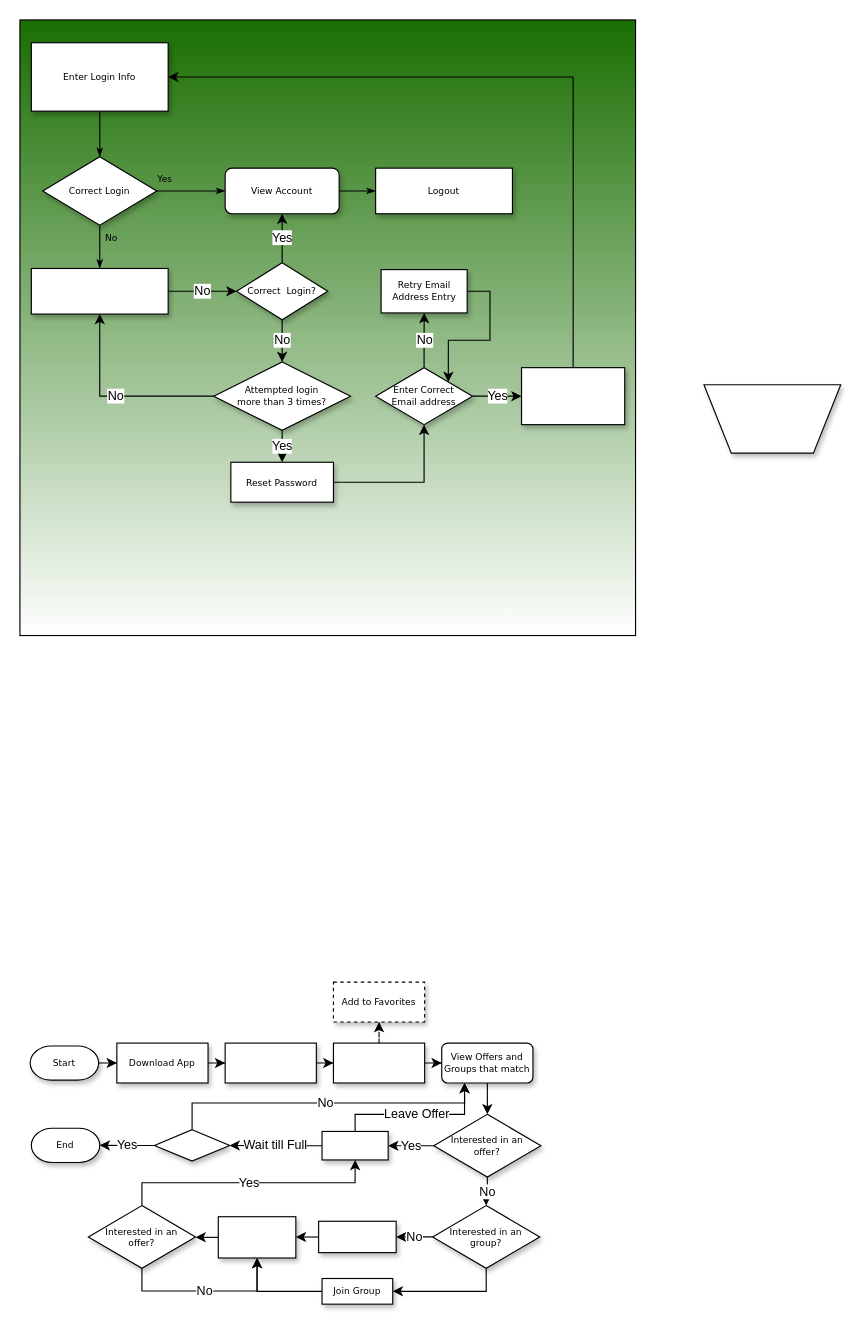
Some shapes in this 868 by 1333 pixel diagram are drawn without their labels. Here are the shapes that lost their labels. From the top down, the centre of each, then its label:
[100,292]: Retry Login
[574,397]: Password Reset. Instructions Sent via Email
[773,420]: Determine need to replenish value-add stock
[271,1064]: Create Account
[379,1064]: Search for iPhone
[193,1146]: Pay
[355,1147]: Join Offer
[258,1238]: Get Notifications for your Group
[358,1238]: Create Group
